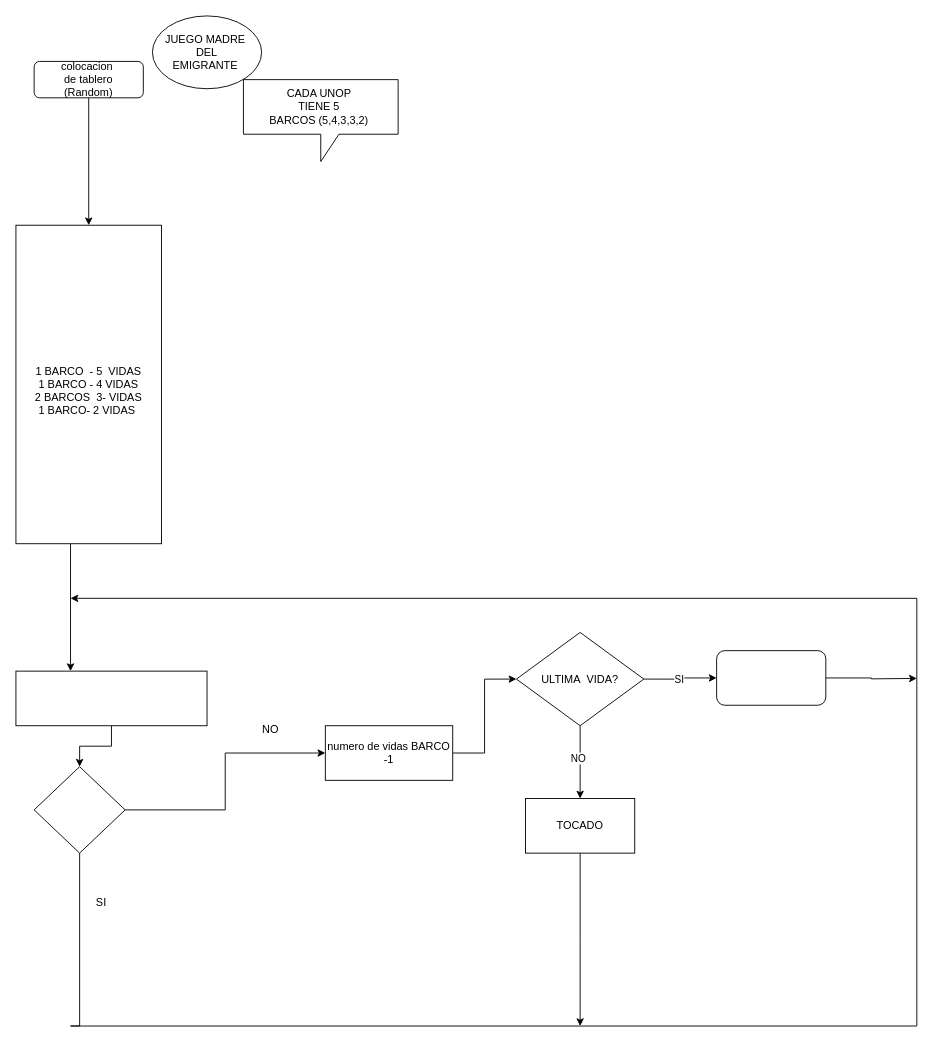
This 940x1049 diagram has some shape labels left out. Each missing label, with the centre of its shape:
"AGUA?" goes at point (79, 809).
"ATAQUE USUARIO / ATAQUE BOT" goes at point (111, 698).
"HUNDIDO" goes at point (771, 677).
